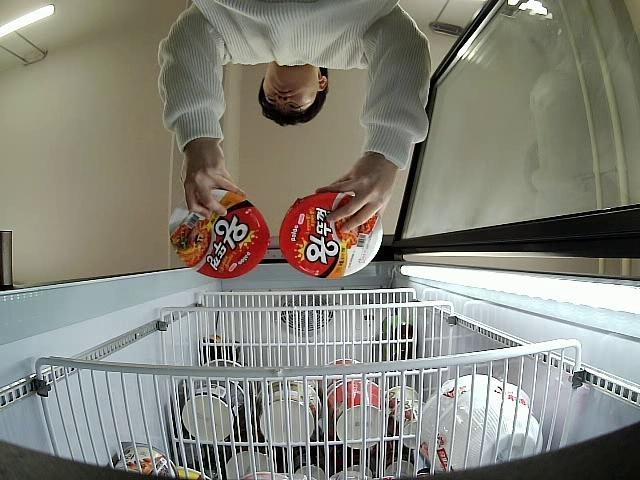10_wangTtukkeong: (166, 188, 269, 279), (280, 192, 383, 280)
